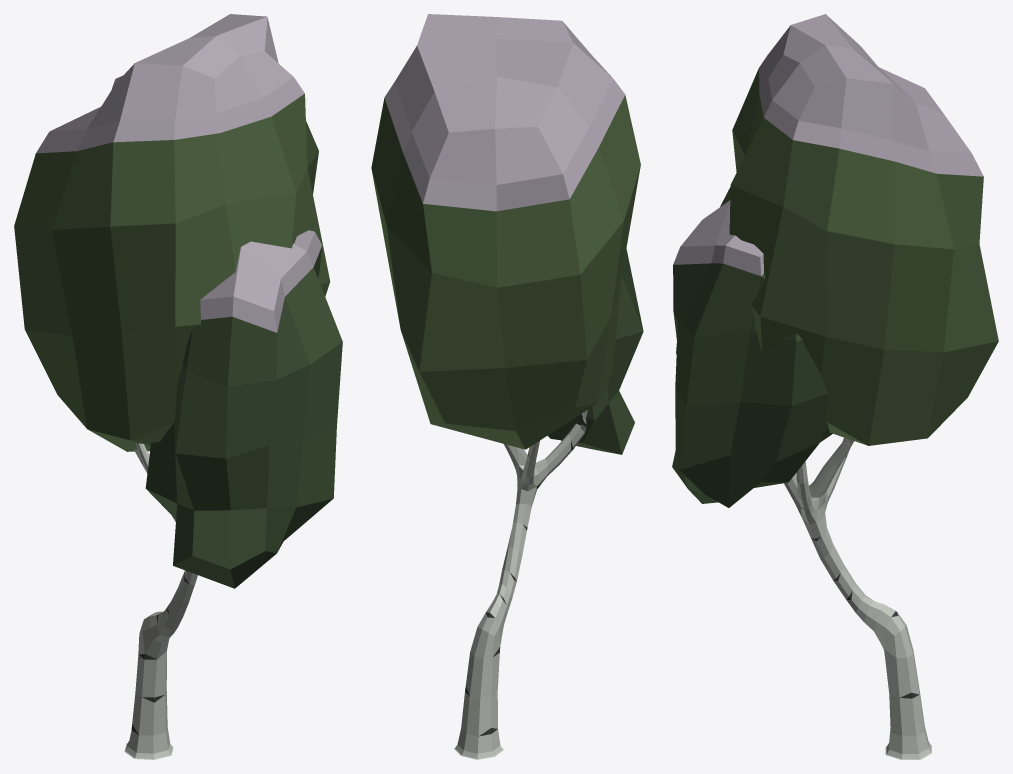
File: BirchTree_Snow_2.glb
The picture shows the model from 3 angles, left to right: view 1: azimuth 30°, elevation 25°; view 2: azimuth 150°, elevation 25°; view 3: azimuth 270°, elevation 25°; orthographic projection. The views are drawn at different scales.
Parts seen in each view (by area): view 1: Green, DarkGreen, Snow, White; view 2: Green, Snow, White, DarkGreen; view 3: Green, DarkGreen, Snow, White.
Part boxes in pixels (bbox=[...]): Green: bbox=[14, 93, 330, 451]; DarkGreen: bbox=[145, 246, 342, 588]; Snow: bbox=[36, 14, 321, 332]; White: bbox=[124, 443, 197, 759]; Green: bbox=[371, 95, 640, 449]; Snow: bbox=[384, 14, 625, 211]; White: bbox=[454, 410, 587, 759]; DarkGreen: bbox=[547, 248, 643, 454]; Green: bbox=[720, 68, 998, 445]; DarkGreen: bbox=[672, 263, 832, 507]; Snow: bbox=[673, 14, 983, 275]; White: bbox=[784, 437, 931, 759].
Bounding box in the file's own units: 1.47 × 4.09 × 1.69.
